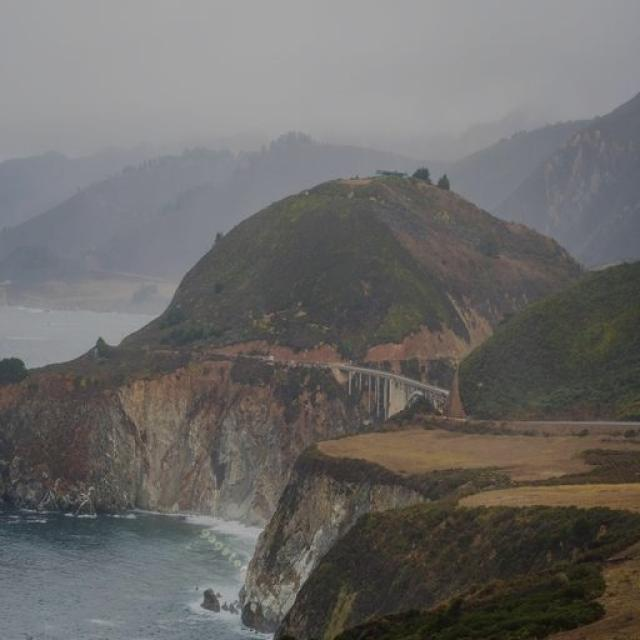watermark: (194, 520, 259, 582)
